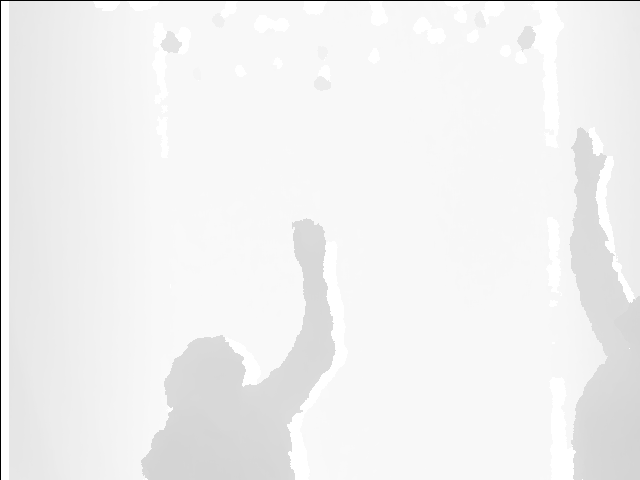hand: (567, 122, 616, 185), (288, 217, 330, 275)
